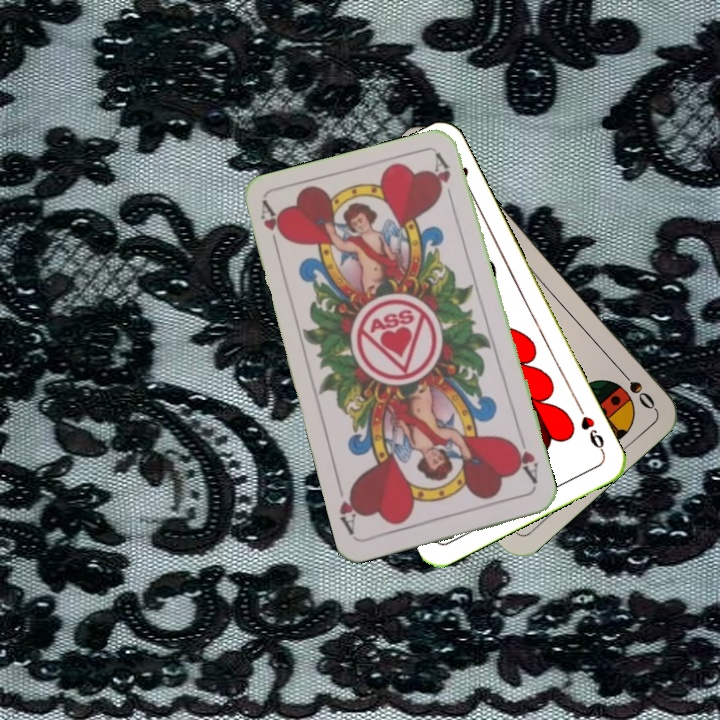H9: (574, 402, 608, 457)
HA: (507, 431, 541, 490), (256, 199, 290, 257)
SO: (613, 363, 658, 413)
